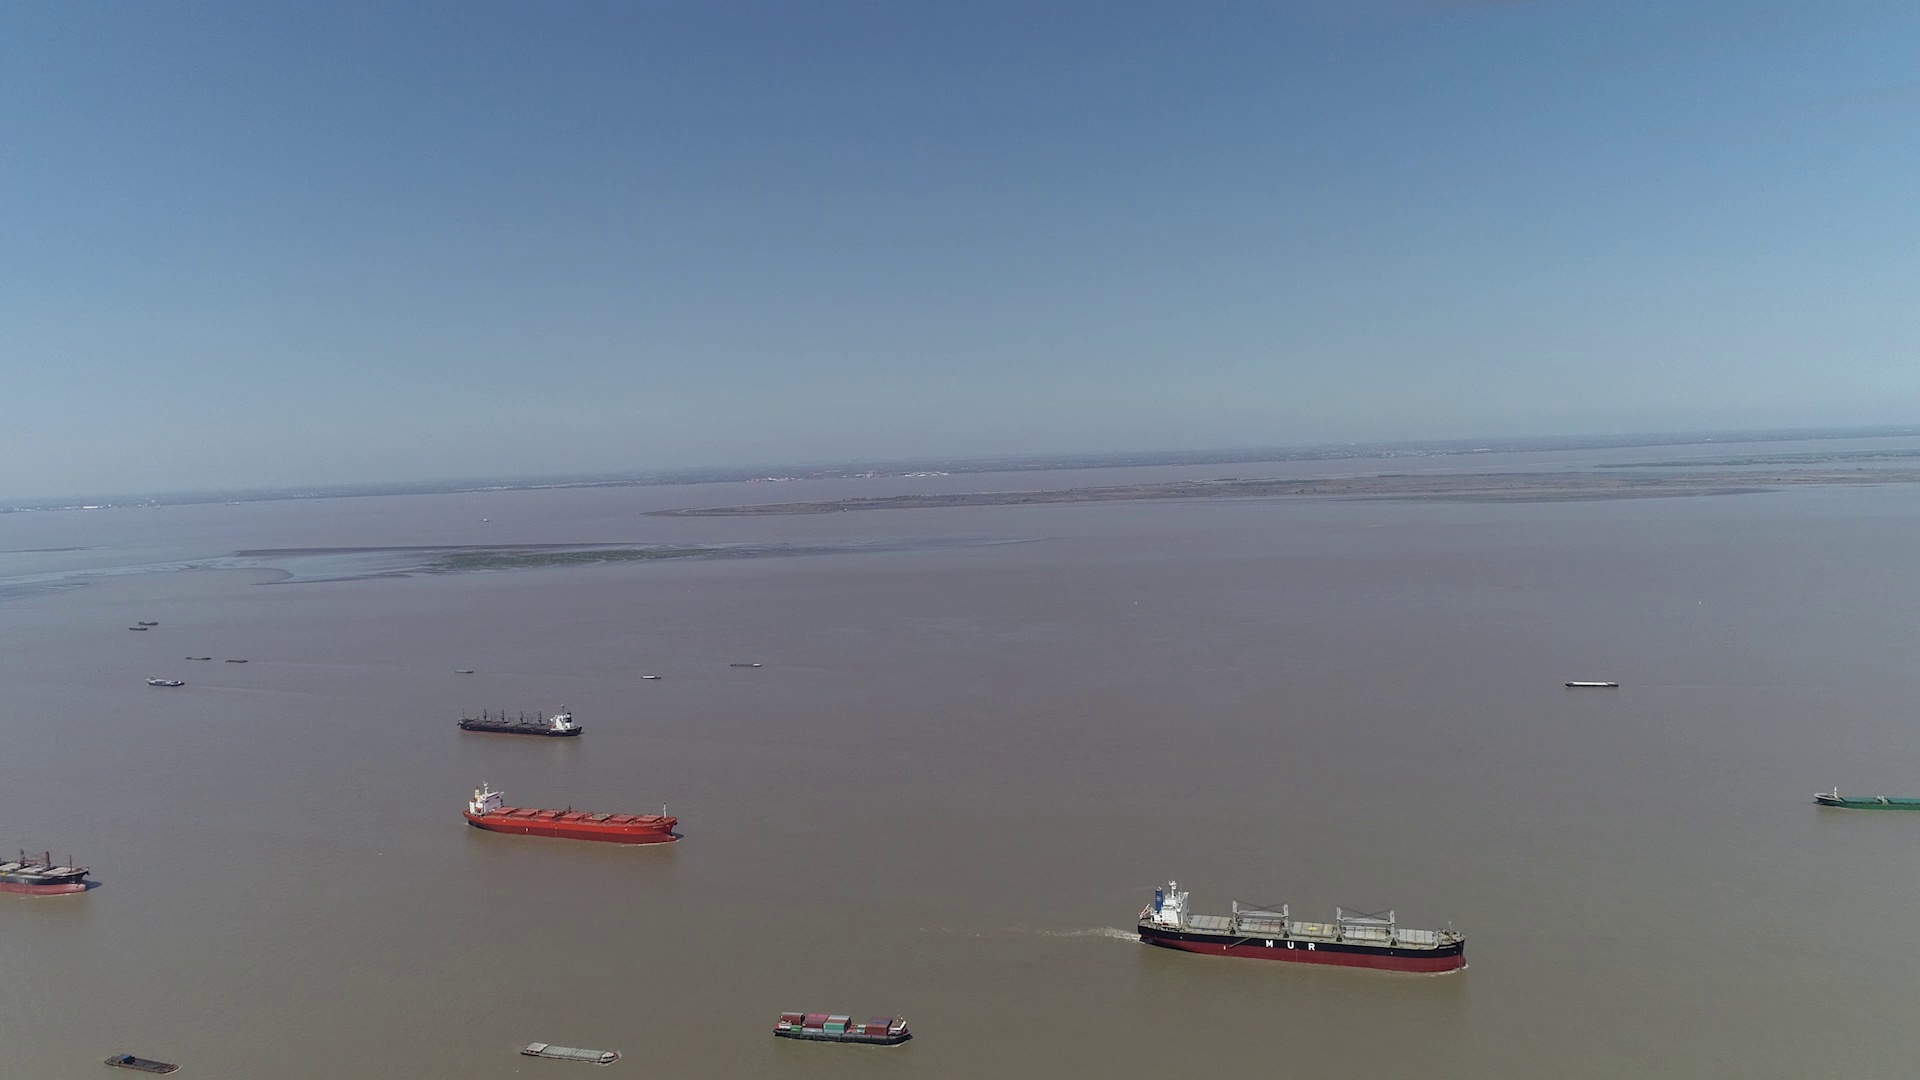ship: (1138, 881, 1466, 975), (465, 779, 680, 845), (0, 839, 96, 897), (775, 1011, 913, 1047), (458, 705, 583, 737), (520, 1040, 620, 1064), (1815, 790, 1920, 811), (105, 1052, 177, 1073), (1564, 679, 1617, 688), (149, 676, 185, 687)
